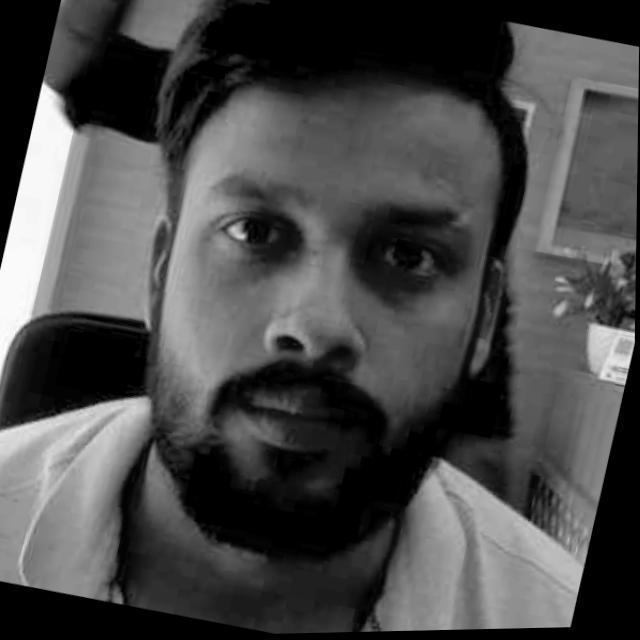puffy_eyes: (354, 250, 429, 309), (214, 247, 304, 275)
